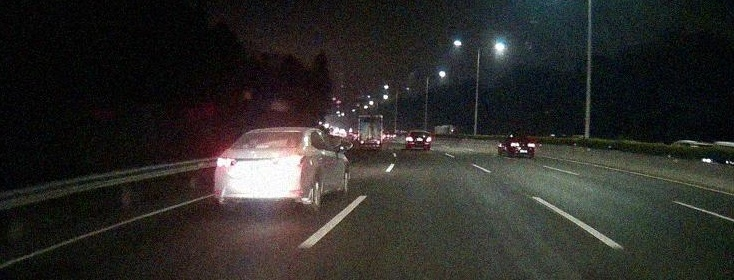L_light: (217, 157, 235, 168), (408, 137, 413, 141), (360, 141, 364, 144)
R_light: (280, 155, 306, 166), (426, 138, 431, 141), (376, 141, 380, 144)
T_light: (256, 145, 269, 149), (368, 117, 372, 119), (418, 132, 421, 133)
night-no: (214, 127, 310, 216), (358, 115, 383, 153), (407, 130, 432, 151)
